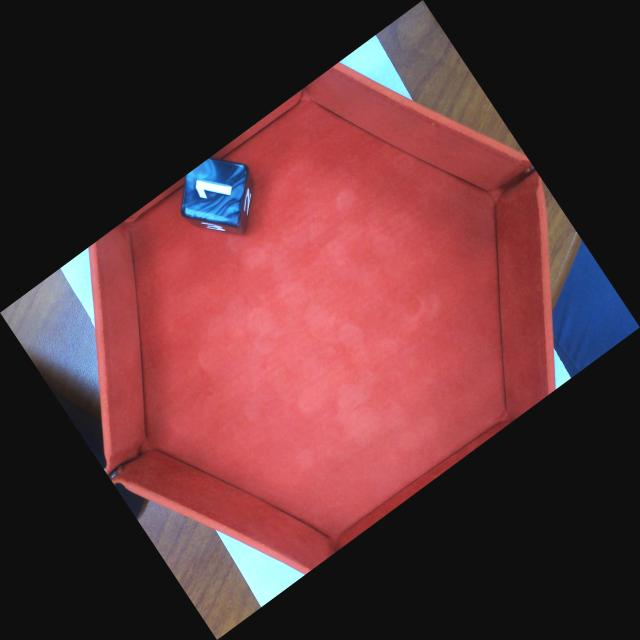dice: (181, 155, 250, 229)
